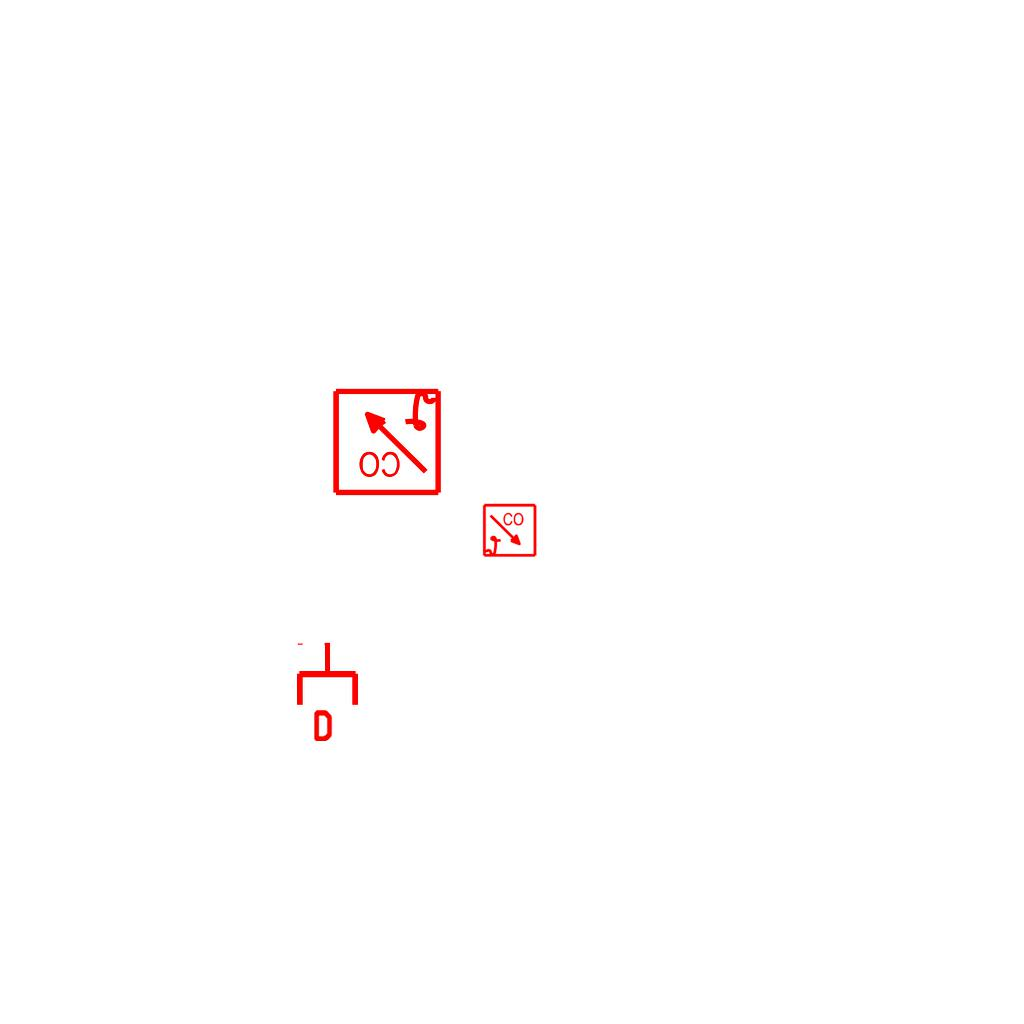Datenanschluss_einfach: (293, 641, 362, 741)
ROA_Rauchmelder_optisch_mit_Signalgeber_(Sockelsirene): (330, 384, 443, 497), (482, 503, 538, 559)
